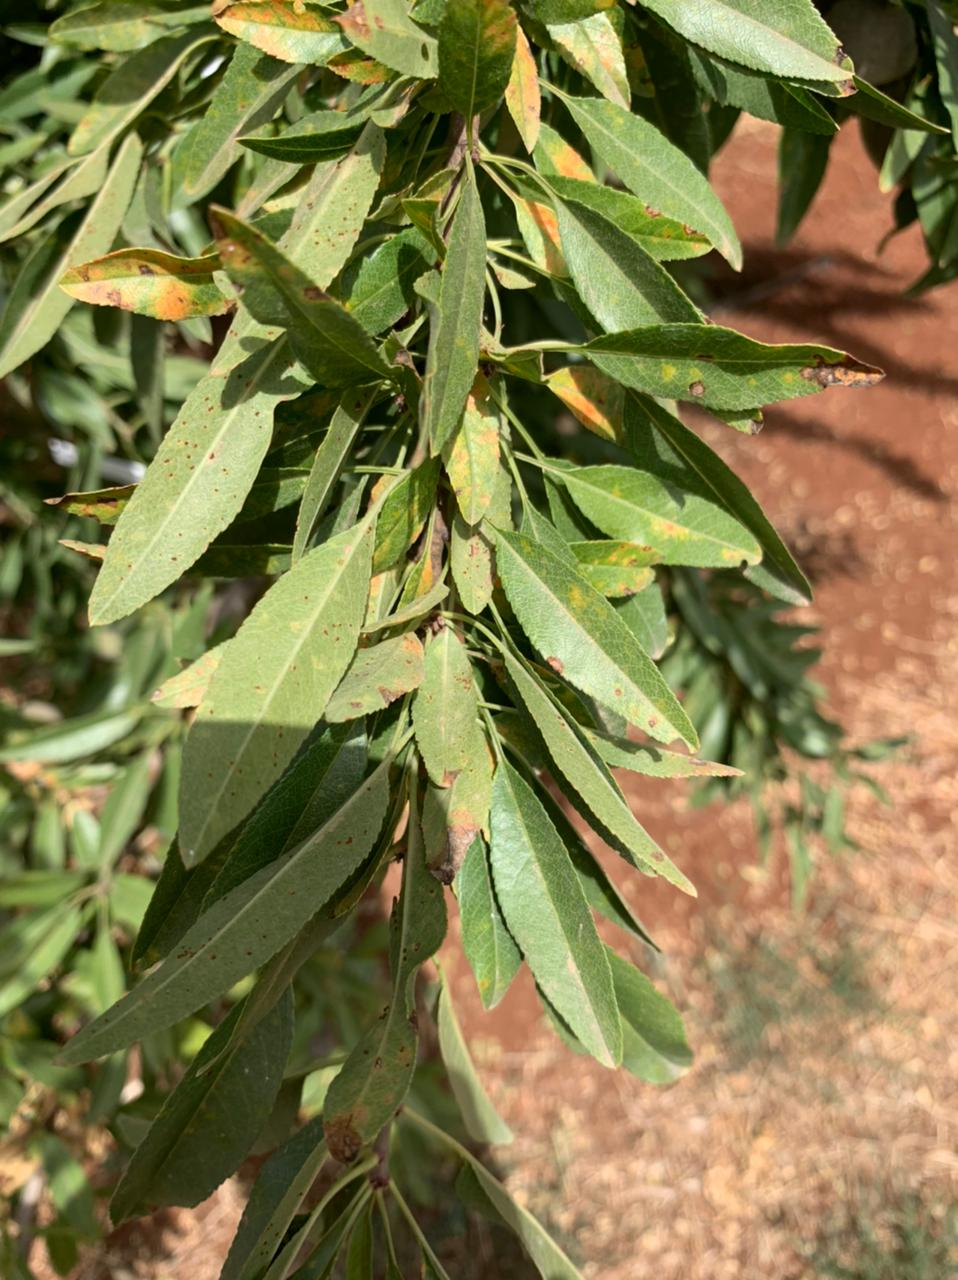rouille: (52, 754, 391, 1069), (173, 517, 378, 872), (81, 358, 289, 626), (494, 527, 700, 756), (209, 117, 386, 372), (582, 319, 886, 419), (423, 161, 483, 460), (536, 171, 714, 265), (318, 1007, 421, 1168), (413, 627, 479, 790), (318, 631, 428, 723), (329, 3, 448, 83), (448, 508, 498, 617)
